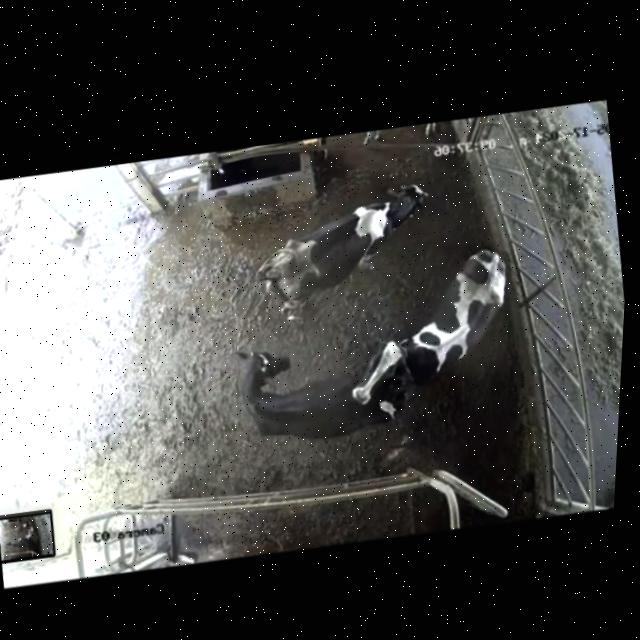propping: (317, 315, 453, 430)
stand: (242, 171, 444, 317), (202, 331, 408, 470)
